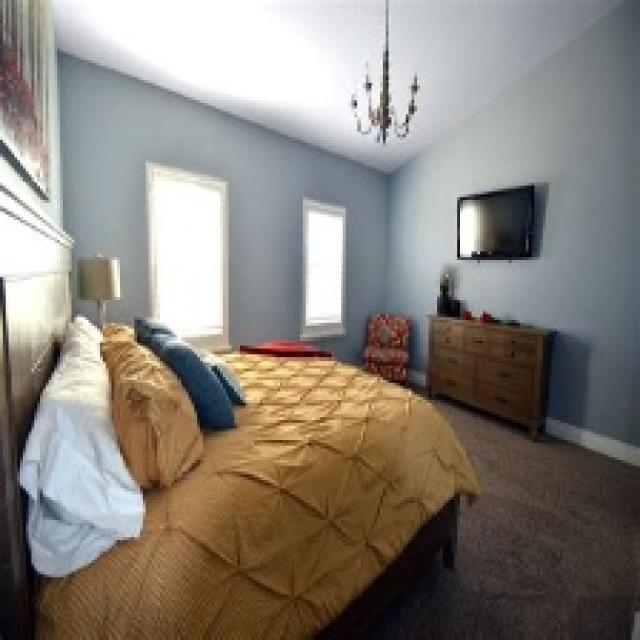Bed: (17, 320, 477, 637)
